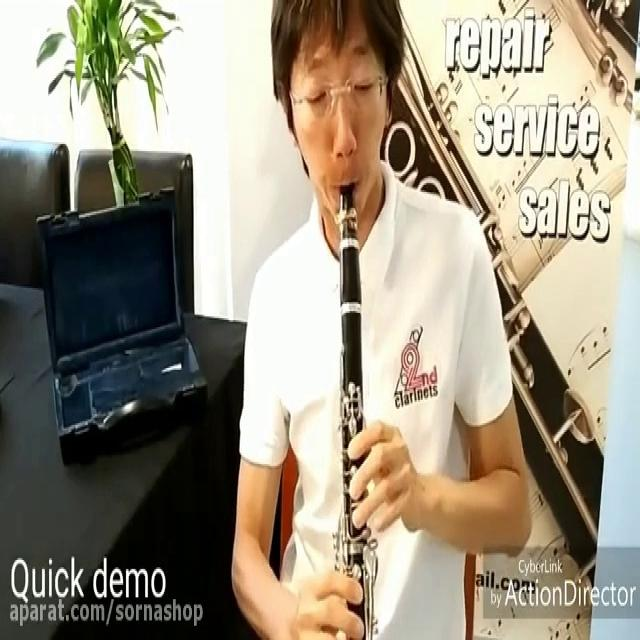Clarinet: (333, 164, 388, 640)
